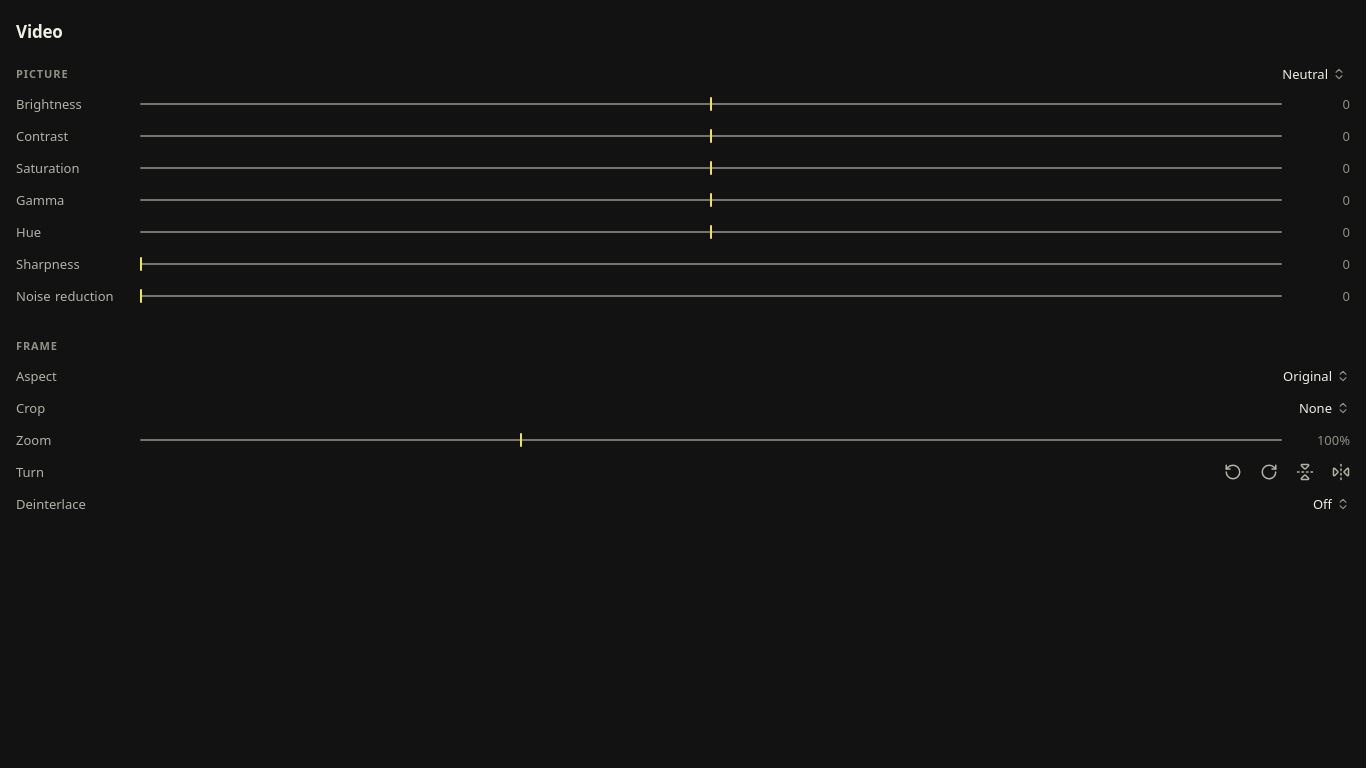
Test: the Frame group › picks an aspect from the usual ratios, Original first, with the present one checked
The width and height of the screenshot is (1366, 768).
What coordinates should you click on to do the following:
click the button "Original"
I would click on:
 (1315, 376)
Its box is [1275,362,1354,390].
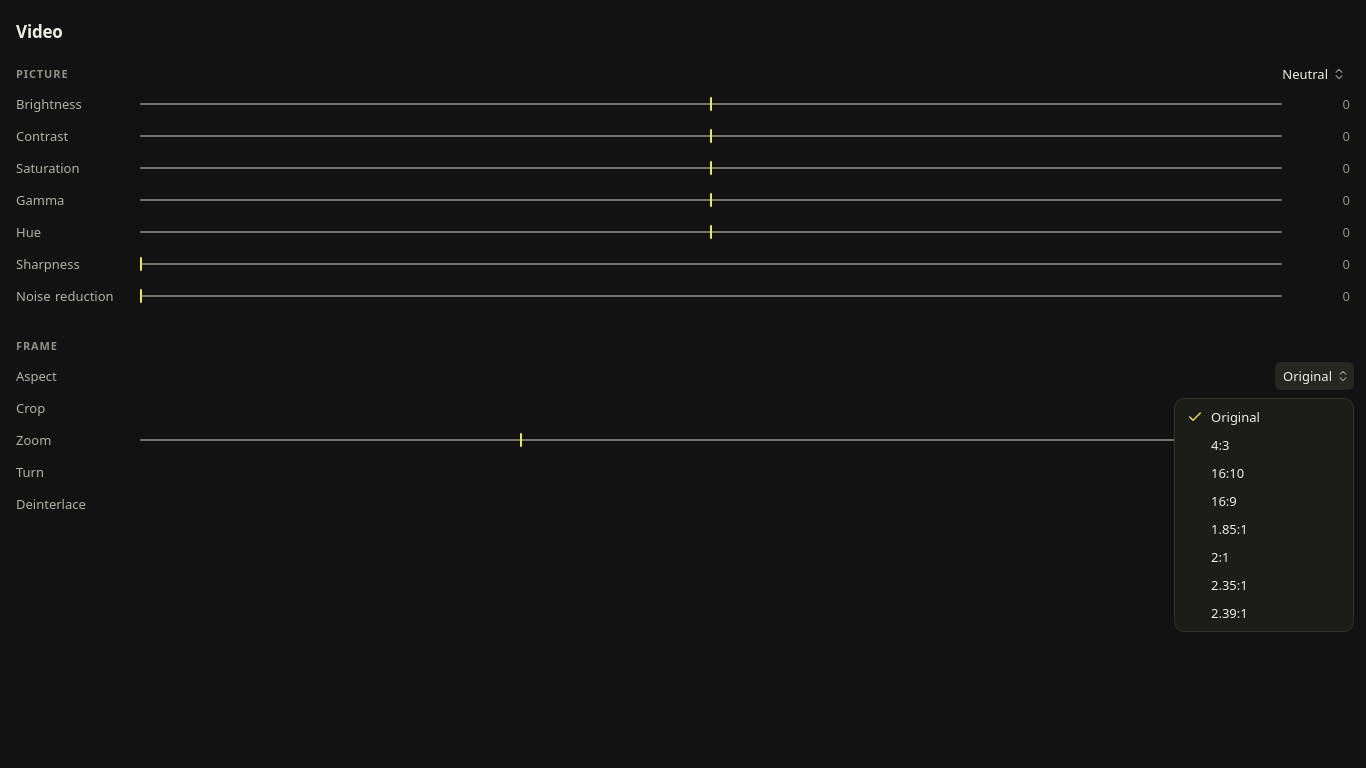
What coordinates should you click on to do the following:
click the menu item "16:9"
I would click on:
 (1224, 501)
Its box is [1211,492,1237,510].
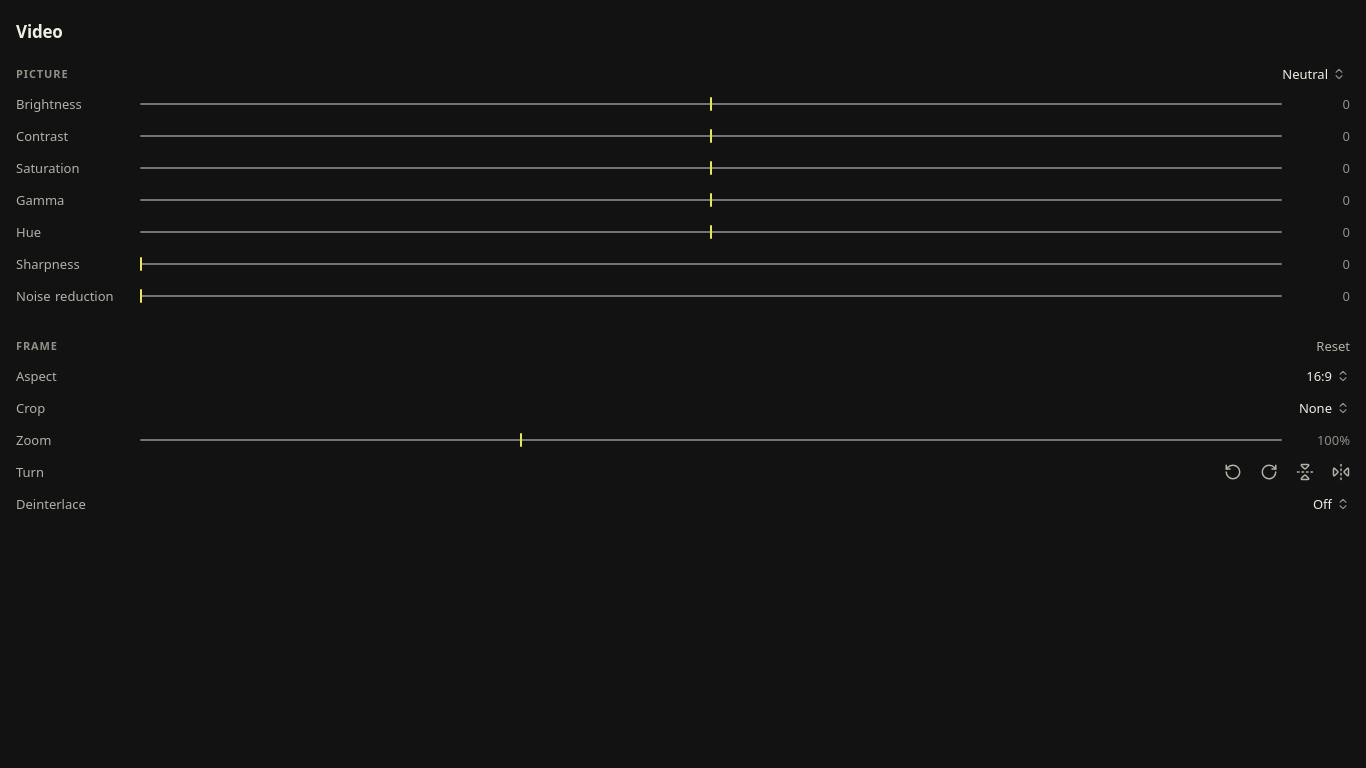
What coordinates should you click on to do the following:
click the button "16:9"
I would click on:
 (1326, 376)
Its box is [1298,362,1354,390].
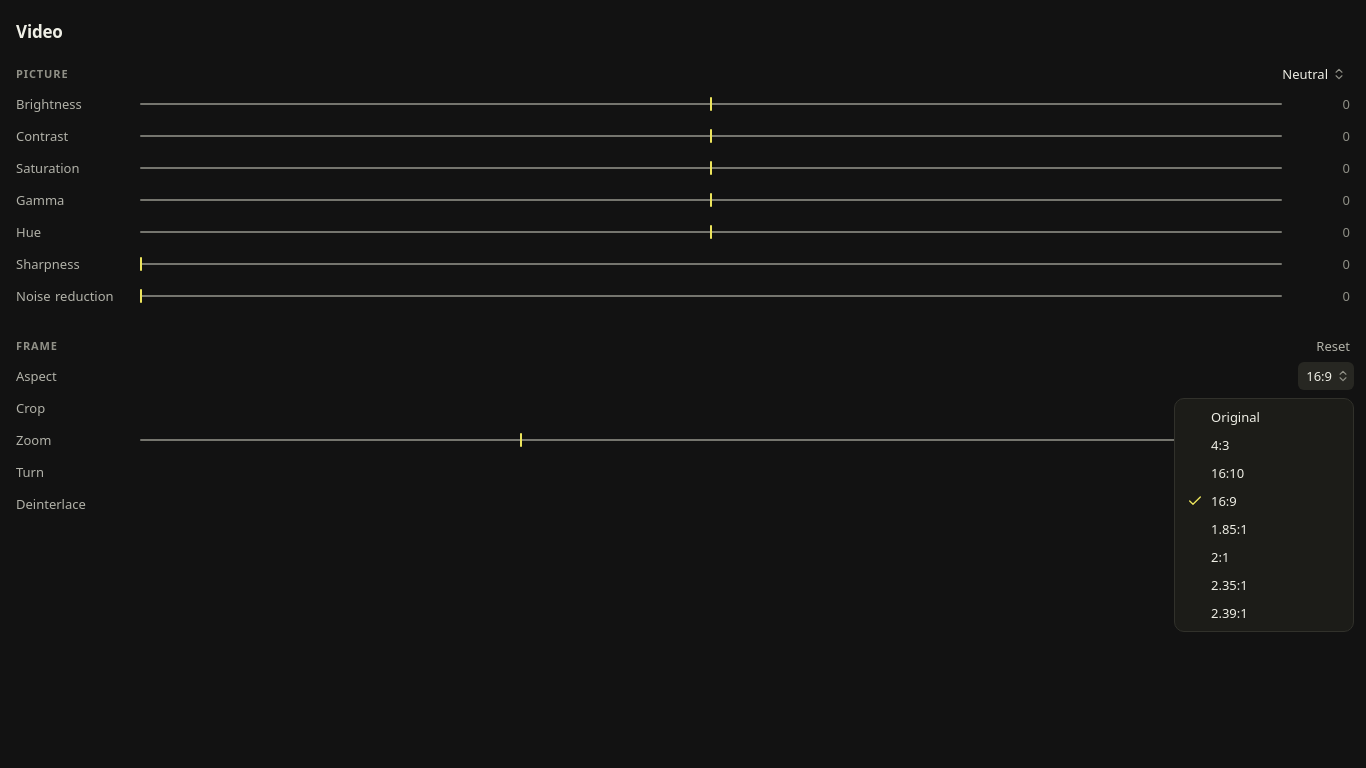
Result: the menu item "16:9" is checked at [1187,492,1237,510]
